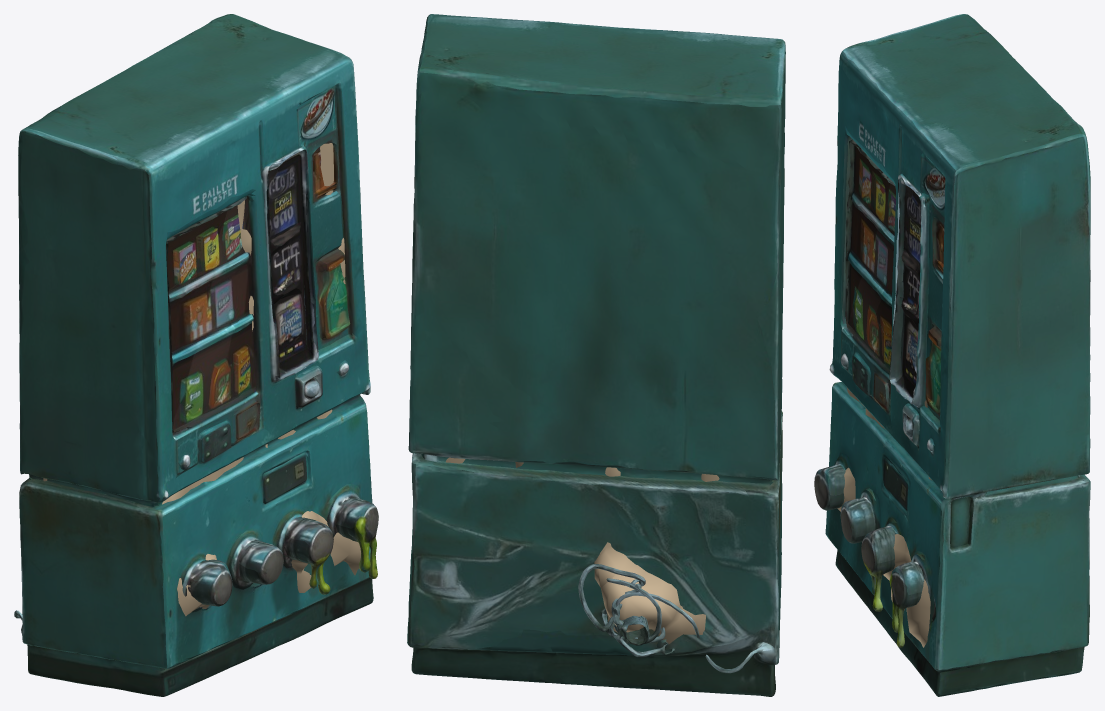
File: soap_vendor_chunks.glb
The picture shows the model from 3 angles, left to right: view 1: azimuth 30°, elevation 25°; view 2: azimuth 150°, elevation 25°; view 3: azimuth 270°, elevation 25°; orthographic projection. The views are drawn at different scales.
Visible parts, largest first — view 1: chunk4_shell, chunk3_shell, chunk0_shell, chunk1_shell, chunk5_shell, chunk2_shell, chunk0_core, chunk3_core, chunk5_core; view 2: chunk1_shell, chunk3_shell, chunk2_shell, chunk5_shell, chunk4_shell, chunk3_core; view 3: chunk0_shell, chunk5_shell, chunk4_shell, chunk3_shell, chunk1_shell, chunk2_shell, chunk0_core, chunk3_core.
Boxes of the visible parts, <box> form: chunk4_shell: <box>19,73,327,468</box>; chunk3_shell: <box>14,354,267,696</box>; chunk0_shell: <box>259,200,378,640</box>; chunk1_shell: <box>18,199,205,550</box>; chunk5_shell: <box>18,14,360,405</box>; chunk2_shell: <box>232,419,290,666</box>; chunk0_core: <box>278,238,360,592</box>; chunk3_core: <box>162,457,243,616</box>; chunk5_core: <box>248,143,333,331</box>; chunk1_shell: <box>411,93,782,564</box>; chunk3_shell: <box>480,363,782,696</box>; chunk2_shell: <box>407,314,566,684</box>; chunk5_shell: <box>416,14,782,196</box>; chunk4_shell: <box>481,17,785,329</box>; chunk3_core: <box>515,462,705,644</box>; chunk0_shell: <box>861,308,1089,696</box>; chunk5_shell: <box>874,18,1088,355</box>; chunk4_shell: <box>833,14,972,362</box>; chunk3_shell: <box>814,347,895,607</box>; chunk1_shell: <box>829,154,1090,375</box>; chunk2_shell: <box>841,355,1090,677</box>; chunk0_core: <box>883,400,931,647</box>; chunk3_core: <box>837,387,885,511</box>.
Bounding box in the file's own units: 0.9644 × 1.5 × 0.7.
1 material, 1 textured.
